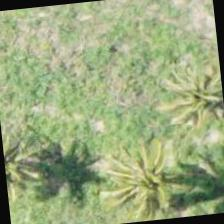Kelapa_Sawit: (109, 124, 208, 223), (34, 128, 134, 223), (161, 38, 223, 134)
